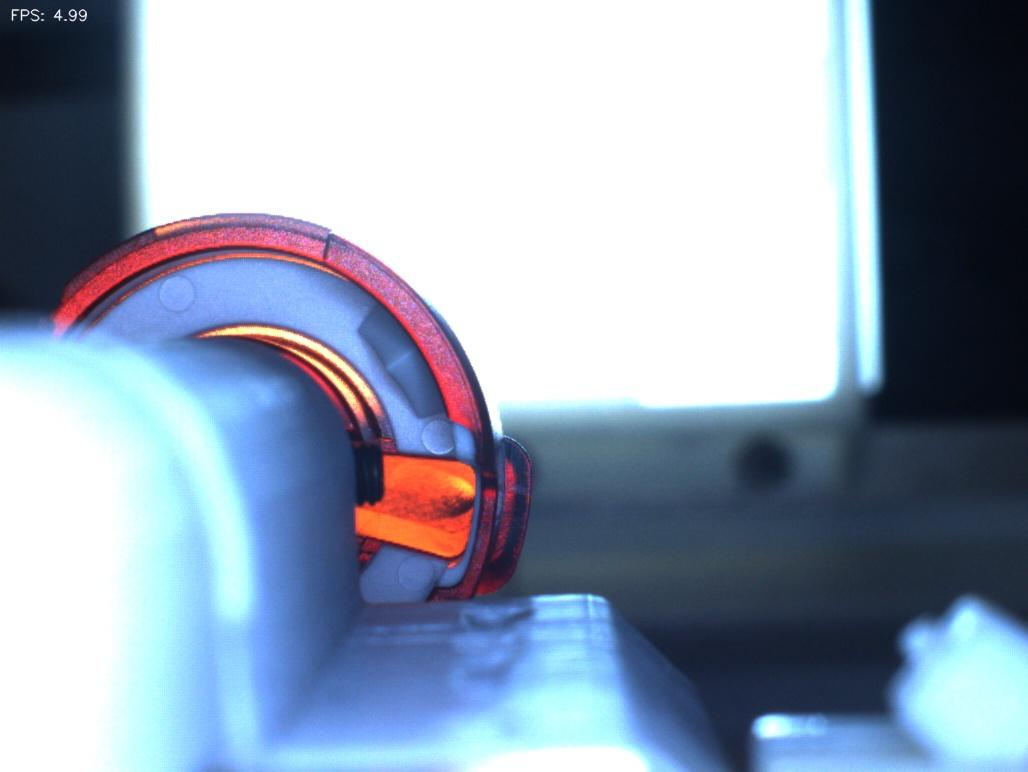Retassure: (383, 456, 480, 541)
